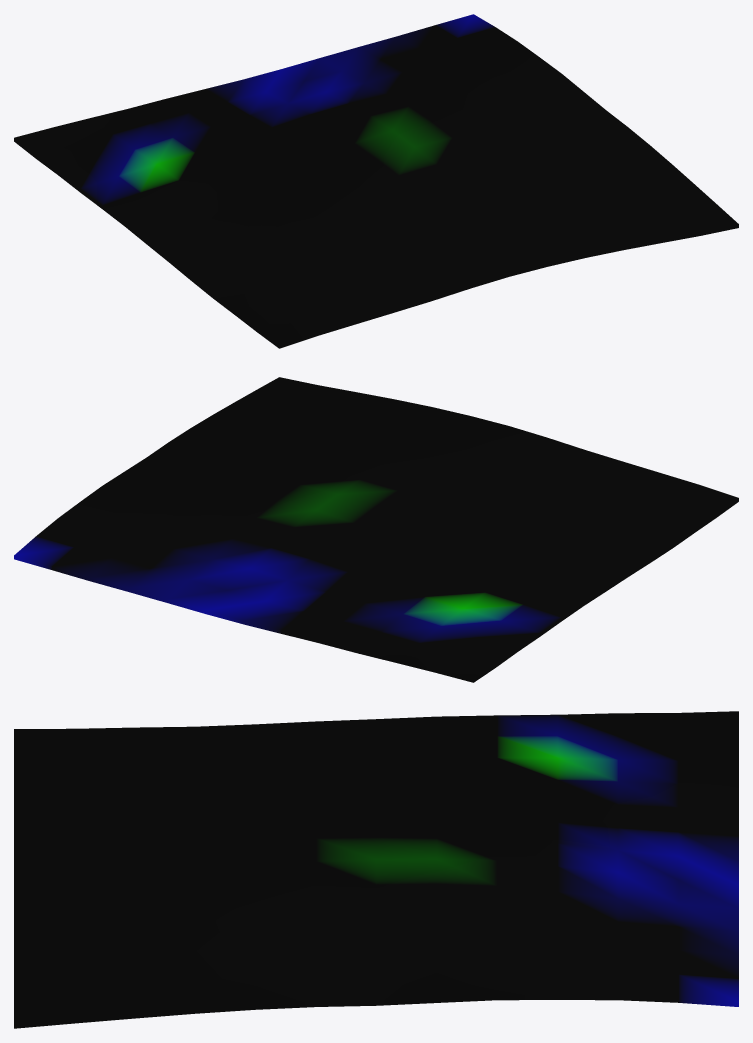
Rendered from coast_21_2.glb.
The picture shows the model from 3 angles, top to bottom: view 1: azimuth 30°, elevation 25°; view 2: azimuth 150°, elevation 25°; view 3: azimuth 270°, elevation 25°; orthographic projection. The views are drawn at different scales.
Parts seen in each view (by area): view 1: terrain; view 2: terrain; view 3: terrain.
Boxes of the visible parts, x1,y1,x2,y2 form: terrain: (14, 14, 738, 348); terrain: (14, 377, 738, 682); terrain: (14, 711, 738, 1028).
Bounding box in the file's own units: 192 × 15.89 × 192.
